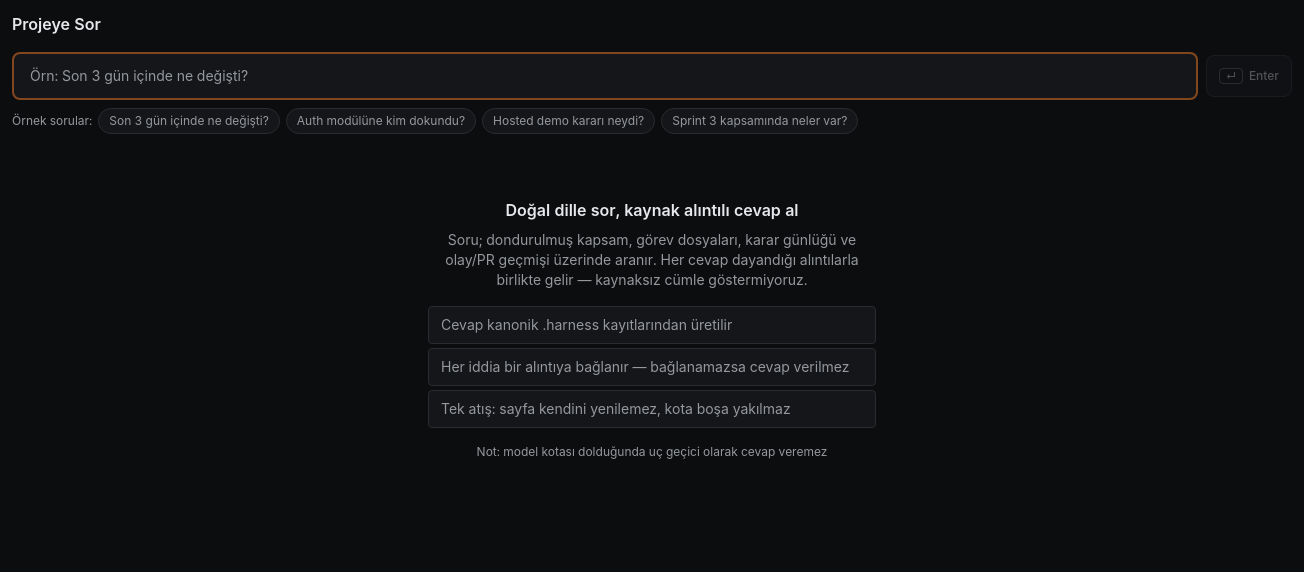
AskPage — Takip önerileri (#319, cevabın altında) › takip sorusuna tıklayınca o soru YENİDEN sorulur
The width and height of the screenshot is (1304, 572).
Type "Auth modülüne kim dokundu?" into the field named "Projeye sorulacak soru" at (605, 76), box [12,52,1198,100]
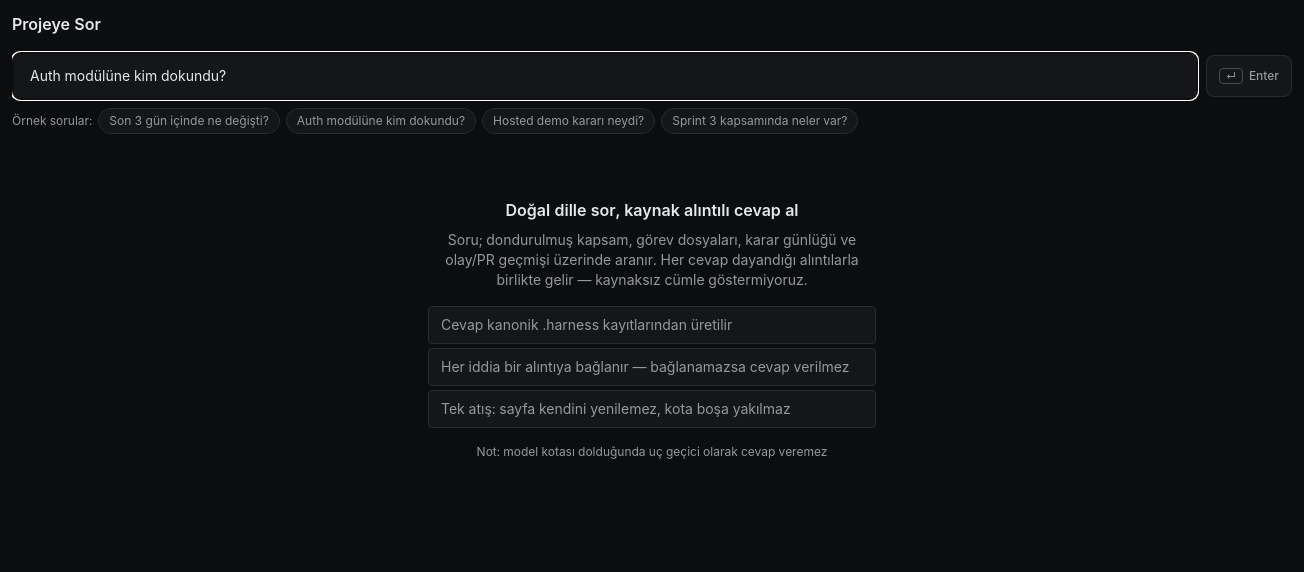
Click the button with aria-label "Soruyu gönder" at (1249, 76), box [1206,55,1292,97]
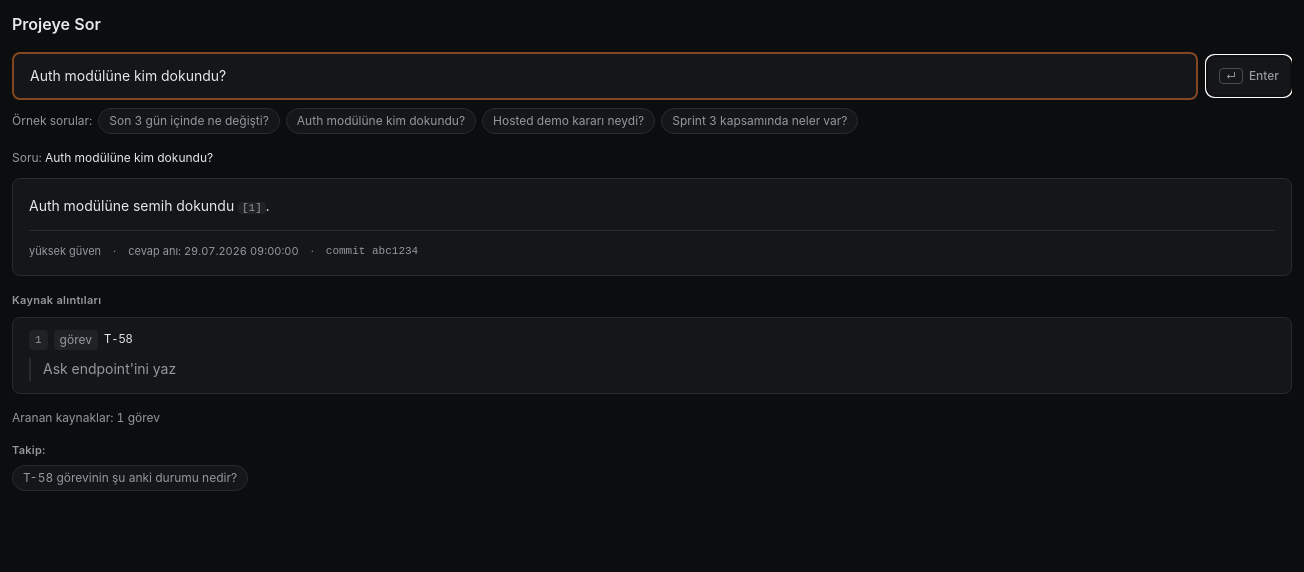
Click the button "T-58 görevinin şu anki durumu nedir?" at (130, 478), box [12,465,248,491]
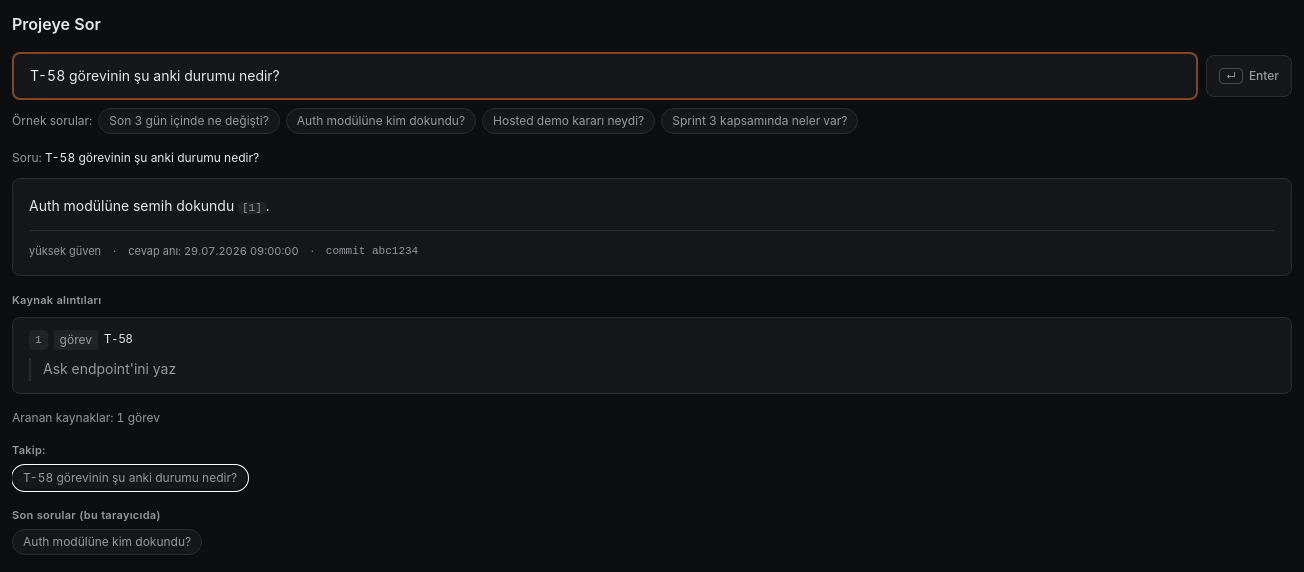
Now the text "T-58 görevinin şu anki durumu nedir?" is shown, box [45,150,259,165]
